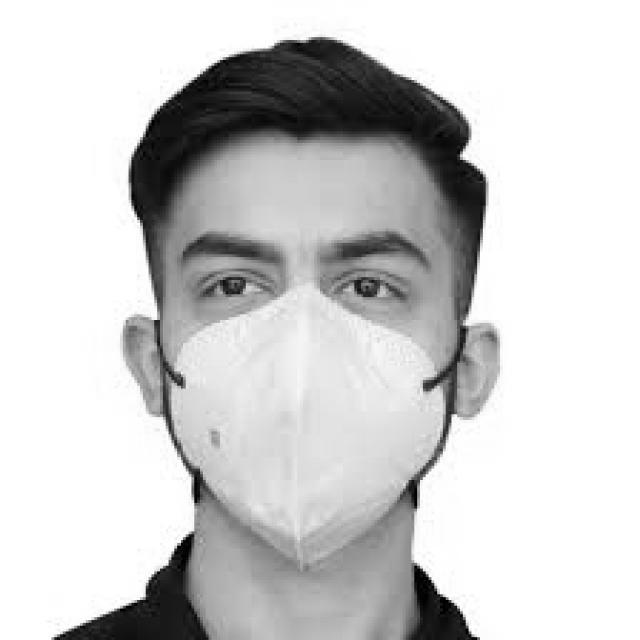fake: (166, 290, 455, 573)
real: (162, 137, 455, 579)
